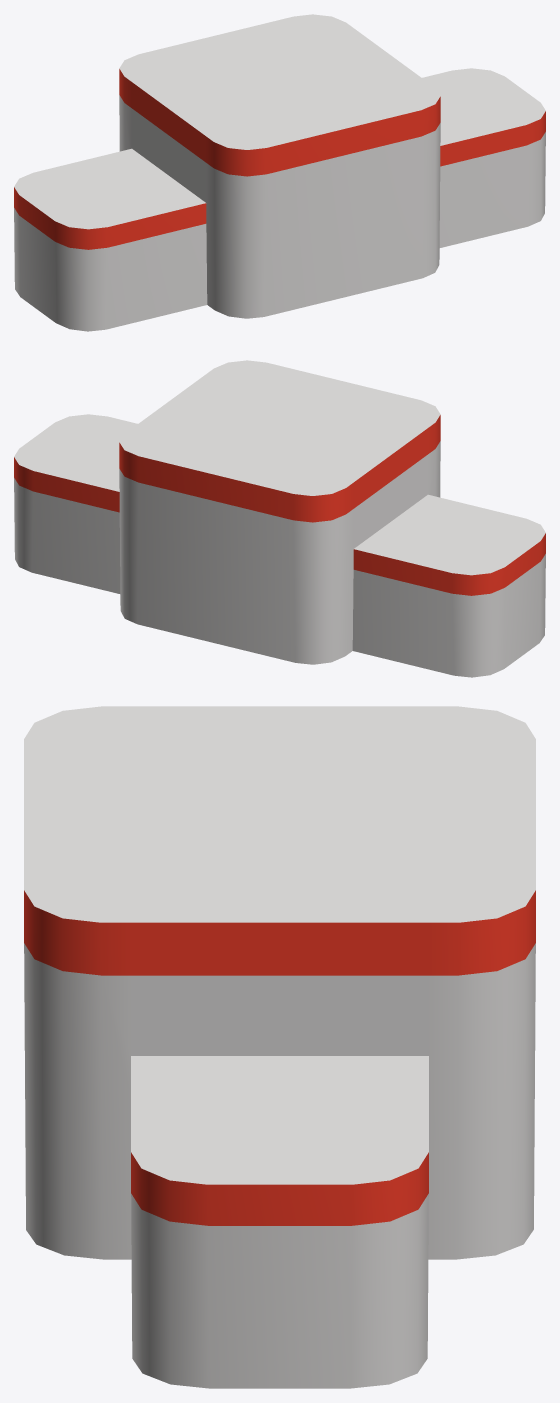
Rendered from Pedestal.fbx.
3 renders of one model, top to bottom at view 1: azimuth 30°, elevation 25°; view 2: azimuth 150°, elevation 25°; view 3: azimuth 270°, elevation 25°, orthographic. The views are drawn at different scales.
Parts seen in each view (by area): view 1: Pedestal; view 2: Pedestal; view 3: Pedestal.
Part boxes in pixels (x1,y1,x2,y2): Pedestal: (14,14,545,331); Pedestal: (14,360,545,677); Pedestal: (24,706,535,1388).
Size of the model in its own units: 312 by 104 by 143.
